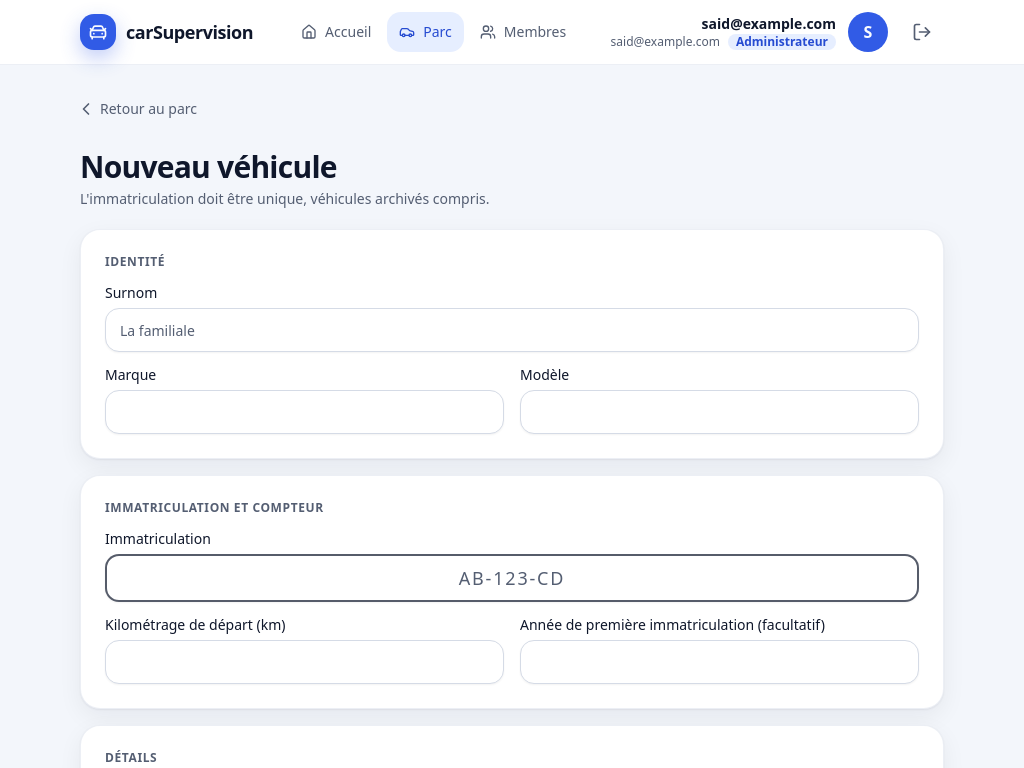
Test: parc de véhicules › envoie les champs facultatifs vides comme absents
Step 1. Type "Citadine" into the field labelled "Surnom" → point(512, 330), box [105,308,919,352]
Step 2. Type "Renault" into the field labelled "Marque" → point(304, 412), box [105,390,504,434]
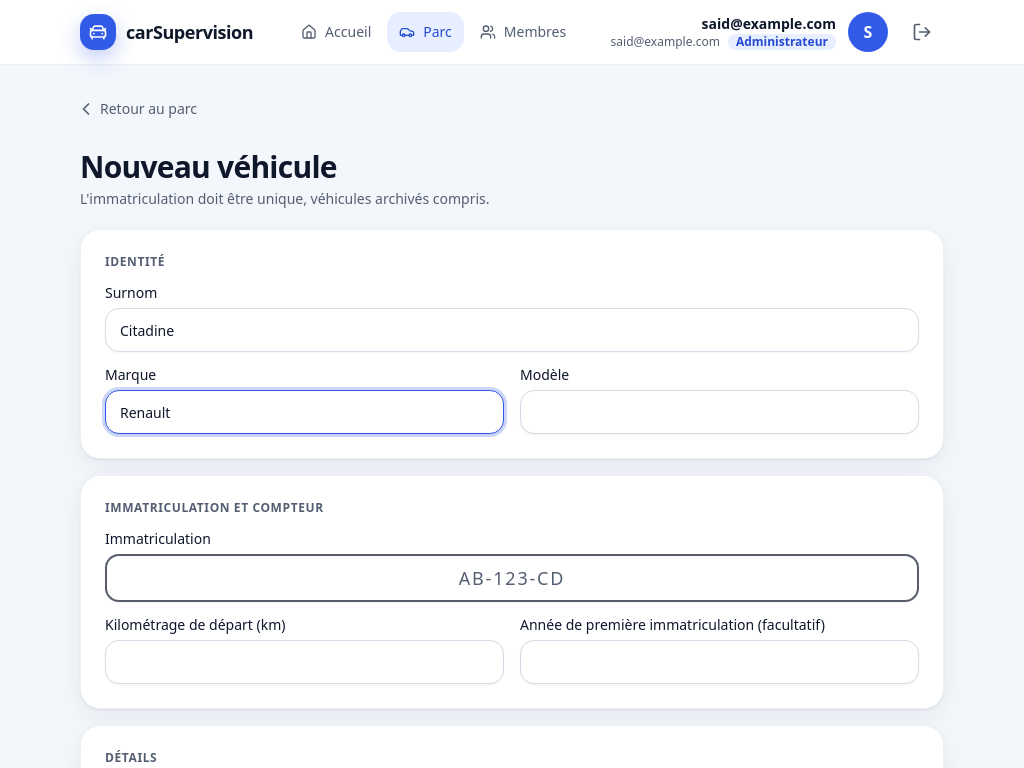
Step 3. Type "Clio" into the field labelled "Modèle" → point(720, 412), box [520,390,919,434]
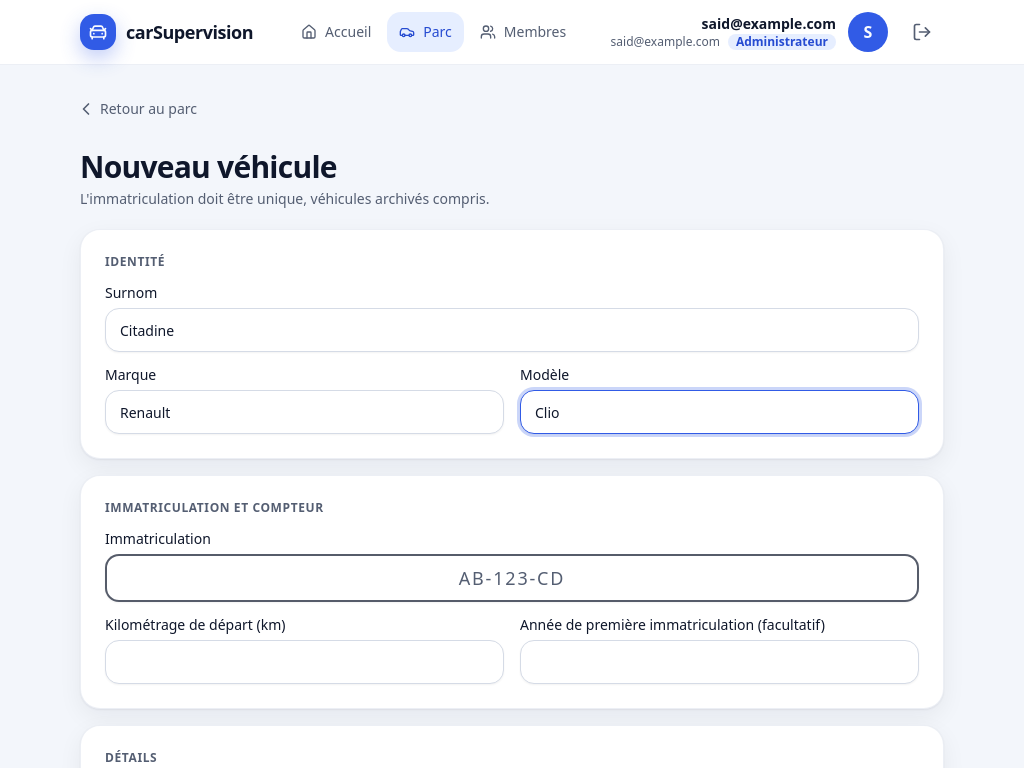
Step 4. Type "ab-123 cd" into the field labelled "Immatriculation" → point(512, 578), box [105,554,919,602]
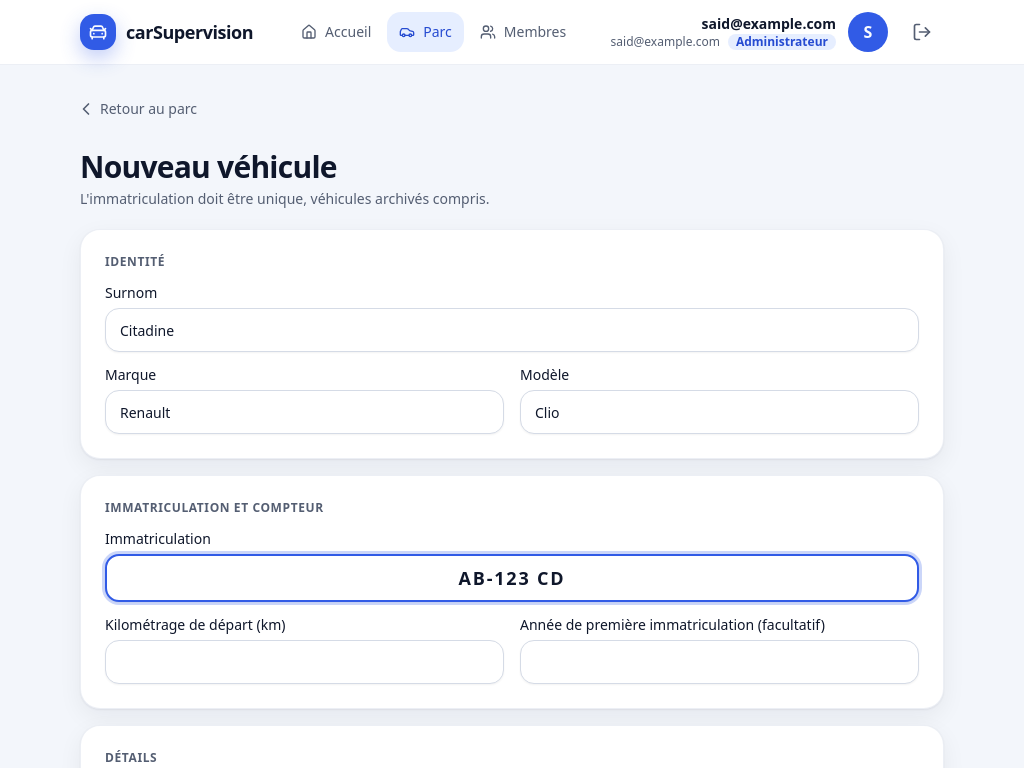
Step 5. Type "12000" into the field labelled "Kilométrage de départ (km)" → point(304, 662), box [105,640,504,684]
(page scrolled)
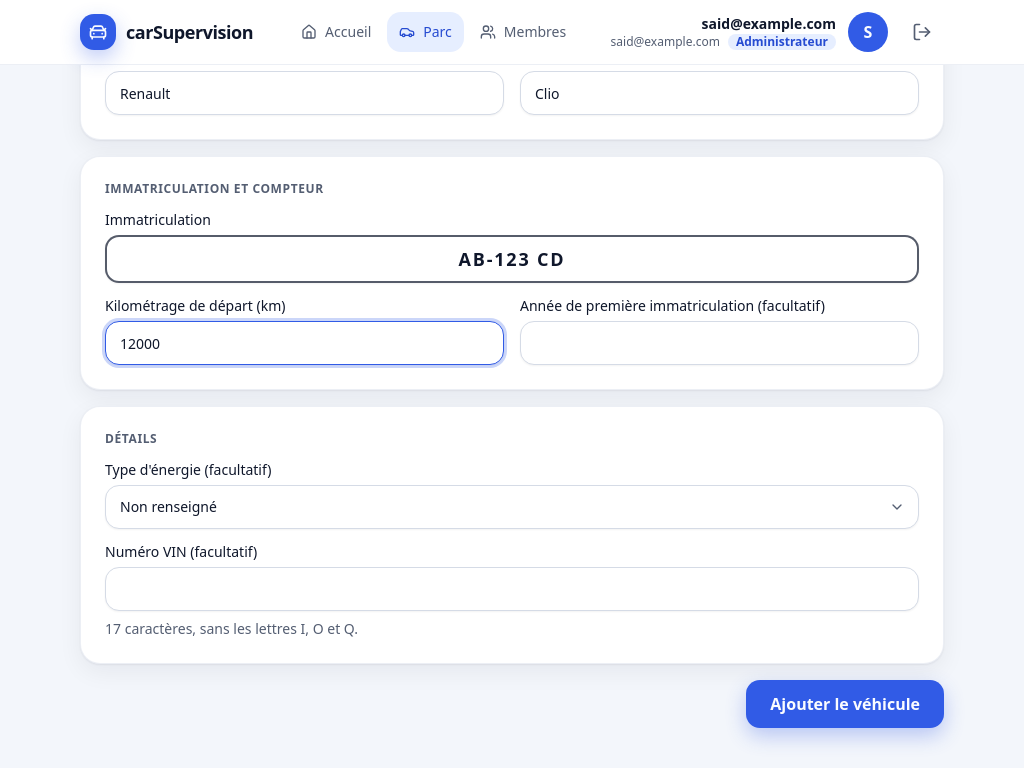
Step 6. Select "Diesel" in the dropdown labelled "Type d'énergie (facultatif)" → point(512, 507), box [105,485,919,529]
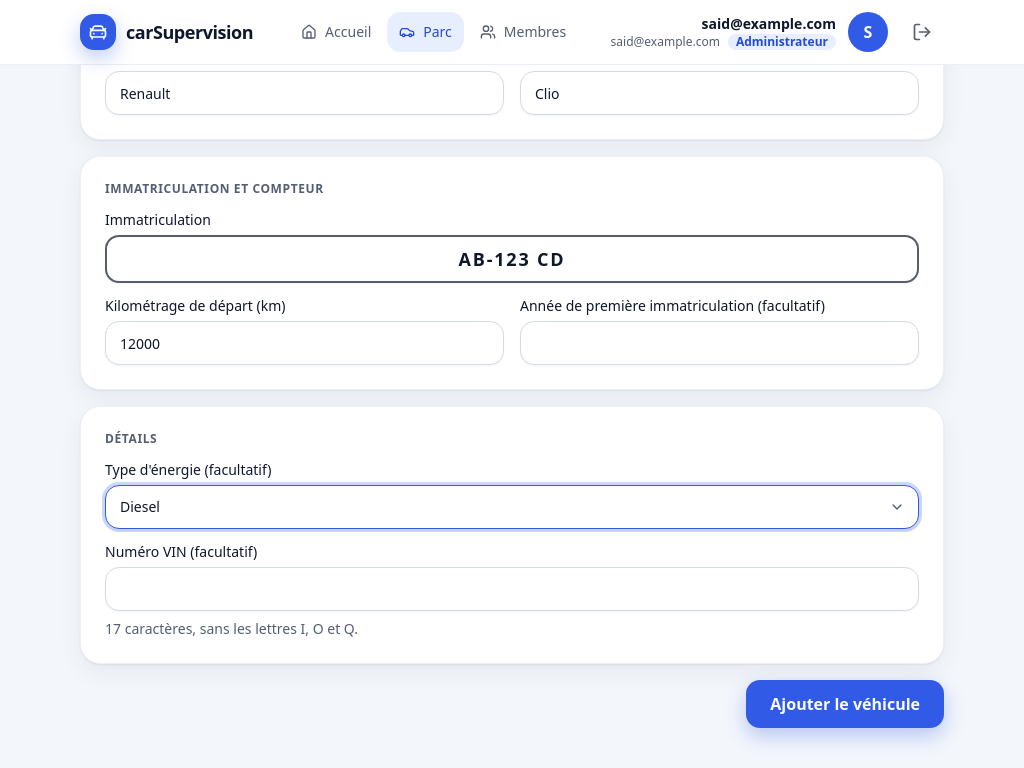
Step 7. Click the button "Ajouter le véhicule" → point(845, 704), box [746,680,944,728]
(page scrolled)
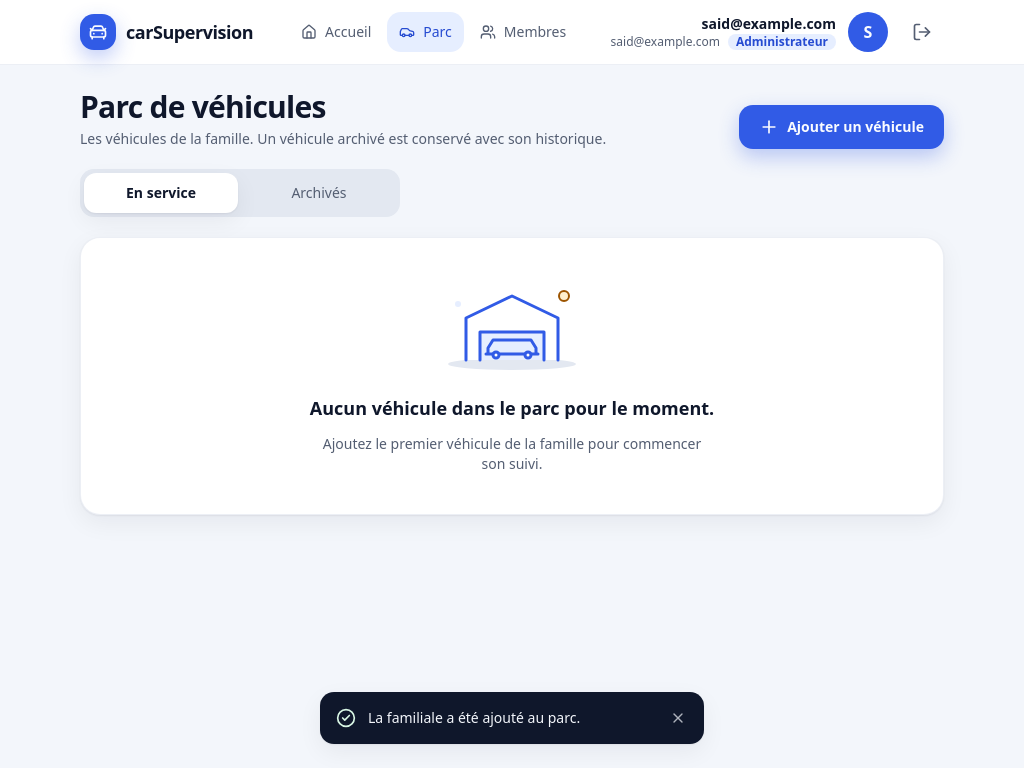
Check: the heading "Parc de véhicules" is shown, box [80,86,326,127]
